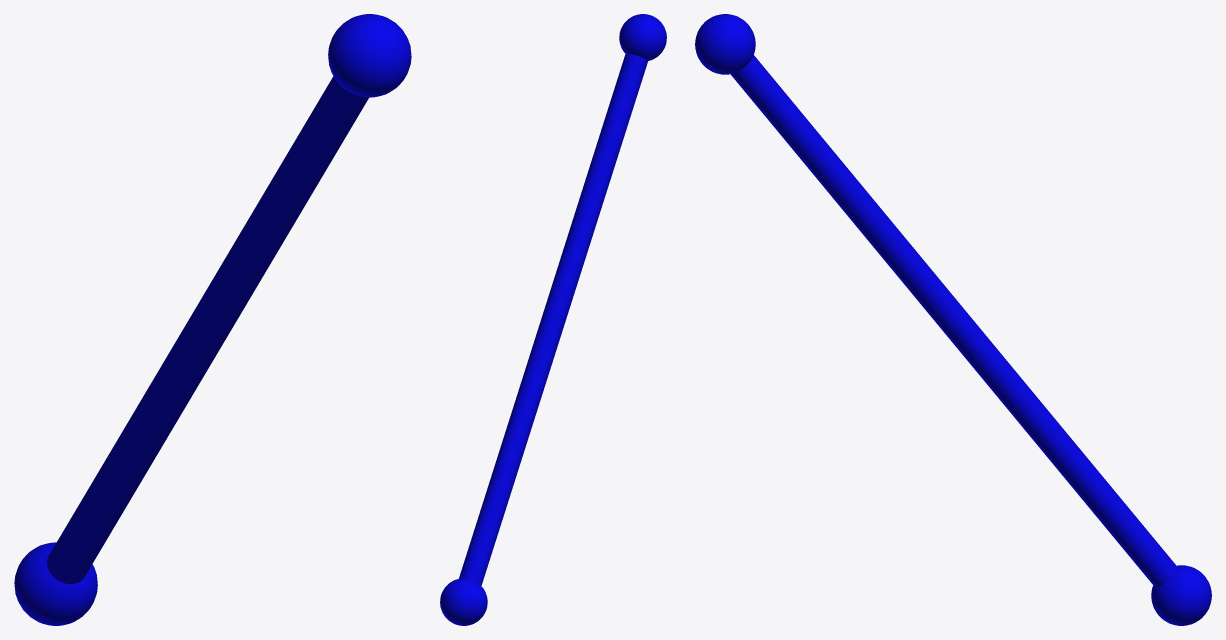
3 renders of one model, left to right at view 1: azimuth 30°, elevation 25°; view 2: azimuth 150°, elevation 25°; view 3: azimuth 270°, elevation 25°, orthographic. The views are drawn at different scales.
Parts seen in each view (by area): view 1: mesh, B, A; view 2: mesh, A, B; view 3: mesh, B, A.
Boxes of the visible parts, <box> form: mesh: <box>47,76,368,583</box>; B: <box>328,14,411,97</box>; A: <box>14,542,97,625</box>; mesh: <box>459,53,648,585</box>; A: <box>440,578,487,625</box>; B: <box>619,14,666,60</box>; mesh: <box>731,55,1177,586</box>; B: <box>695,14,755,74</box>; A: <box>1151,565,1211,625</box>.
Size of the model in its own units: 0.2 by 2.2 by 1.7.
